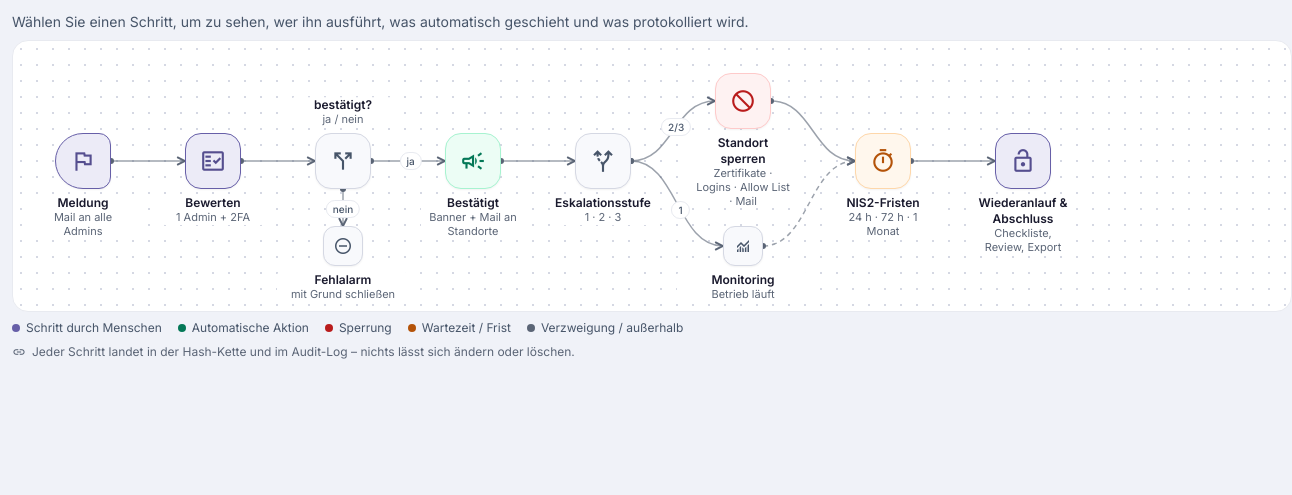
Test case: IncidentFlowDiagram › explains the steps in German
Click the button named "Bewerten" at (213, 161), box [185,133,241,189]
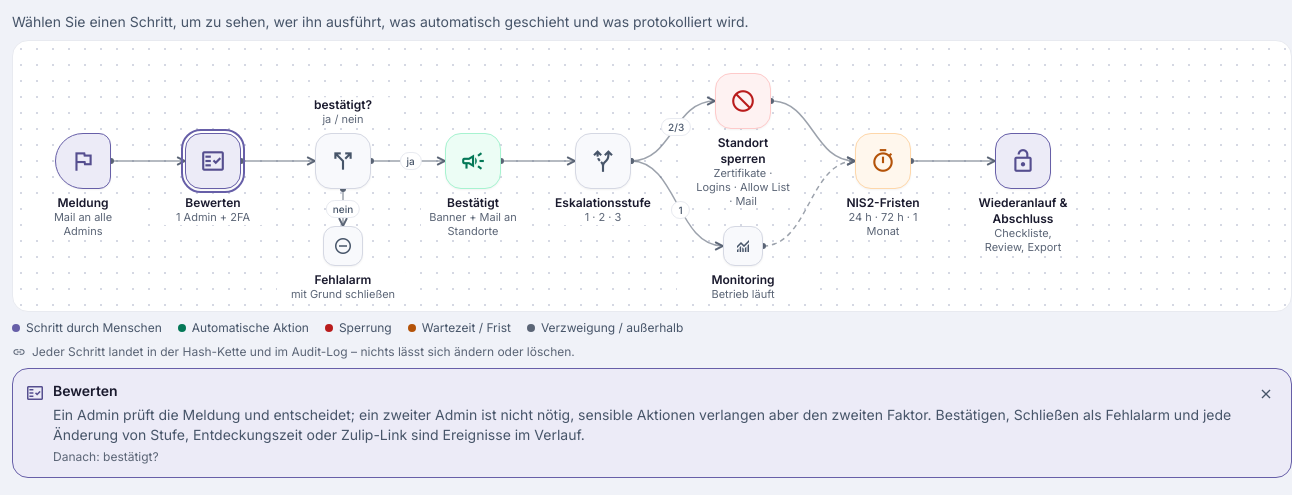
Check: the text "Jeder Schritt landet in der Hash-Kette" is shown, box [32,344,575,359]
Check: the text "Ein Admin prüft die Meldung und entscheidet; ein zweiter Admin ist nicht nötig, sensible Aktionen verlangen aber den zwe" is shown, box [53,406,1231,443]
